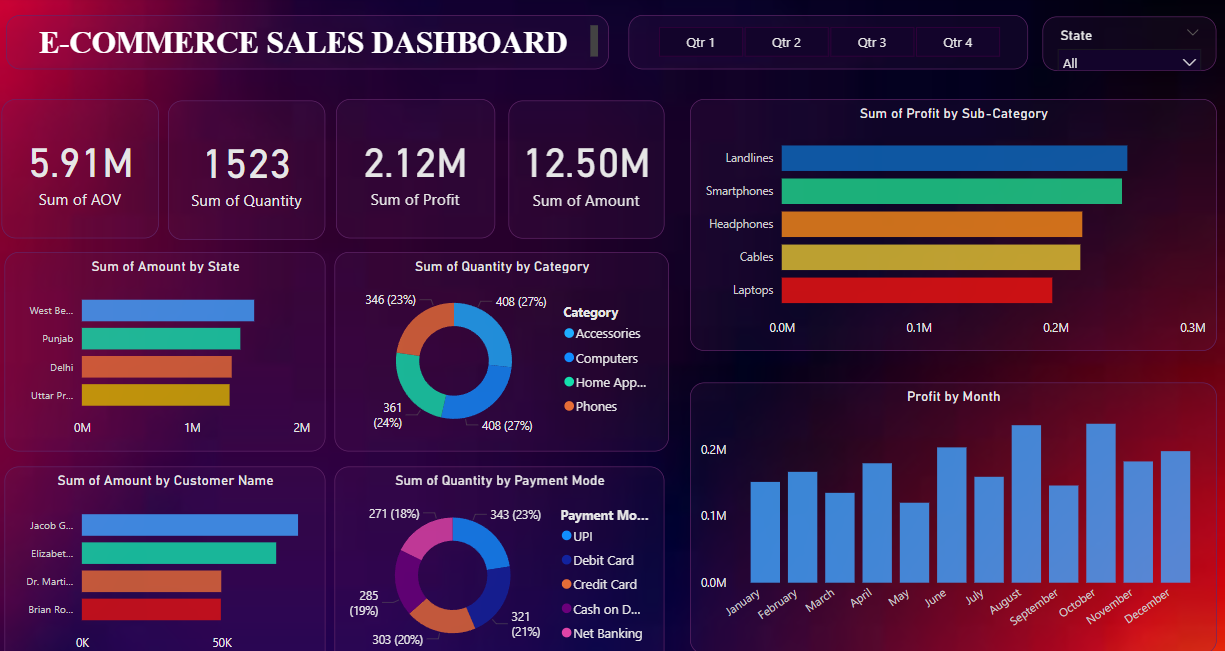

This screenshot's page, from the dashboard's own definition file:
{"tool":"powerbi","page":{"name":"Page 1","canvas":[1280,720],"ordinal":0},"visuals":[{"type":"textbox","box":[9.7,25.3,629,56.5],"z":0},{"type":"columnChart","title":"Profit by Month","fields":{"Category":["Orders.Order Date.Variation.Date Hierarchy.Month"],"Y":["Order Details.Profit"]},"box":[722.6,408.2,549,283.1],"z":1000},{"type":"barChart","fields":{"Category":["Order Details.Sub-Category"],"Y":["Order Details.Profit"]},"box":[722.4,112.9,549.1,262.9],"z":2000},{"type":"donutChart","fields":{"Category":["Order Details.Category"],"Y":["Order Details.Quantity"]},"box":[351.9,272.2,348.8,208],"z":3000},{"type":"donutChart","fields":{"Y":["Order Details.Quantity"],"Category":["Order Details.Payment Mode"]},"box":[351.9,495.8,344.1,208],"z":4000},{"type":"card","fields":{"Values":["Order Details.Amount"]},"box":[533.4,114.2,162.7,143.9],"z":5000},{"type":"card","fields":{"Values":["Order Details.Profit"]},"box":[353.5,112.6,165.8,145.5],"z":6000},{"type":"card","fields":{"Values":["Order Details.Quantity"]},"box":[178.3,114.2,164.2,145.5],"z":7000},{"type":"card","fields":{"Values":["Order Details.AOV"]},"box":[4.7,112.6,164.2,145.5],"z":8000},{"type":"barChart","fields":{"Category":["Orders.State"],"Y":["Order Details.Amount"]},"box":[7.8,272.2,334.7,208],"z":9000},{"type":"clusteredBarChart","fields":{"Y":["Order Details.Amount"],"Category":["Orders.Customer Name"]},"box":[7.8,495.8,334.7,208],"z":10000},{"type":"slicer","fields":{"Values":["Orders.Order Date.Variation.Date Hierarchy.Quarter"]},"box":[658.2,25.3,416.7,56.5],"z":11000},{"type":"slicer","fields":{"Values":["Orders.State"]},"box":[1090.5,27.3,181.1,56.5],"z":12000}]}

Visuals, with their boxes on the page's 1280x720 design canvas (x1, y1, x2, y2). These are canvas units, not pixel positions in the 1225x651 screenshot, which may show the page scaled, cropped or inside an application window:
textbox: region(10, 25, 639, 82)
"Profit by Month" columnChart: region(723, 408, 1272, 691)
barChart - Order Details.Sub-Category x Order Details.Profit: region(722, 113, 1272, 376)
donutChart - Order Details.Category x Order Details.Quantity: region(352, 272, 701, 480)
donutChart - Order Details.Quantity x Order Details.Payment Mode: region(352, 496, 696, 704)
card - Order Details.Amount: region(533, 114, 696, 258)
card - Order Details.Profit: region(354, 113, 519, 258)
card - Order Details.Quantity: region(178, 114, 342, 260)
card - Order Details.AOV: region(5, 113, 169, 258)
barChart - Orders.State x Order Details.Amount: region(8, 272, 342, 480)
clusteredBarChart - Order Details.Amount x Orders.Customer Name: region(8, 496, 342, 704)
slicer - Orders.Order Date.Variation.Date Hierarchy.Quarter: region(658, 25, 1075, 82)
slicer - Orders.State: region(1090, 27, 1272, 84)
